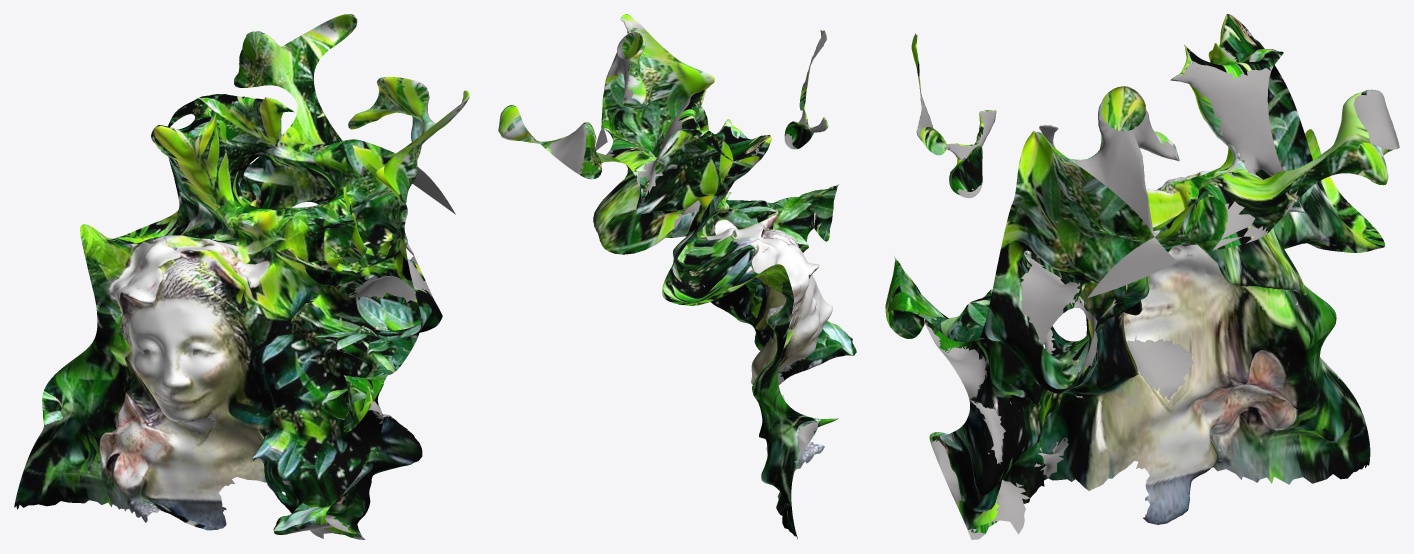
Rendered from groteKop.obj.
3 renders of one model, left to right at view 1: azimuth 30°, elevation 25°; view 2: azimuth 150°, elevation 25°; view 3: azimuth 270°, elevation 25°, orthographic. The views are drawn at different scales.
Bounding box in the file's own units: 16.53 × 19.73 × 16.69.
1 material, 1 textured.
